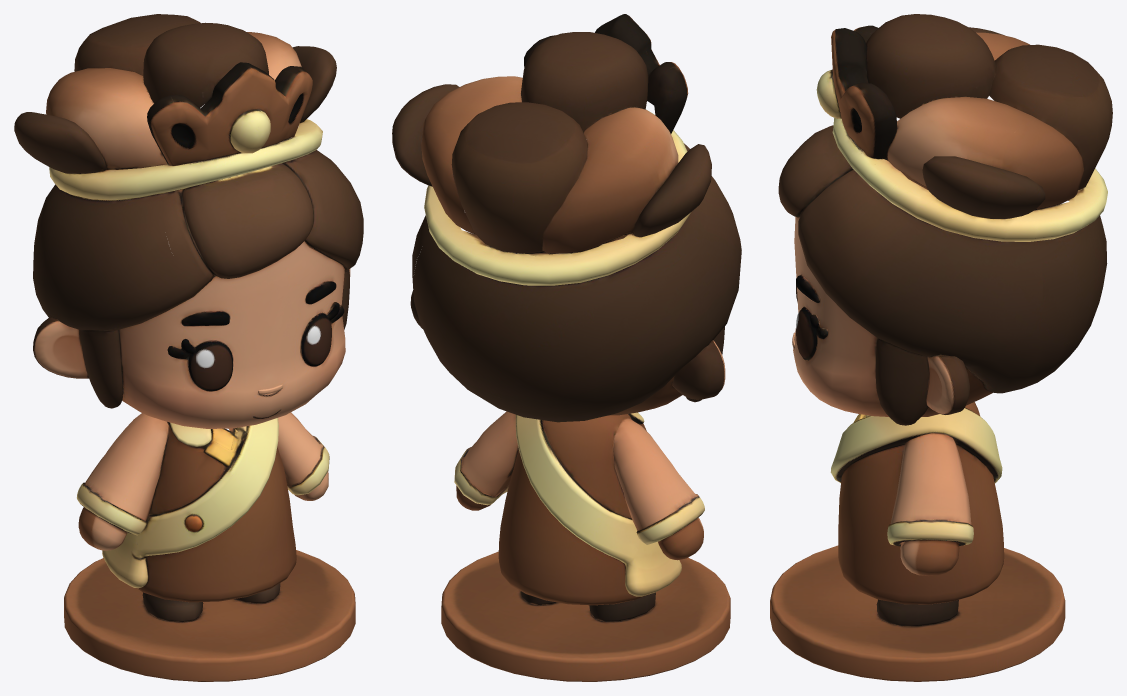
File: laos-queen.glb
3 renders of one model, left to right at view 1: azimuth 30°, elevation 25°; view 2: azimuth 150°, elevation 25°; view 3: azimuth 270°, elevation 25°, orthographic. The views are drawn at different scales.
Parts seen in each view (by area): view 1: c1c8510a_b8d5_4489_9a3a_57828fd24c03; view 2: c1c8510a_b8d5_4489_9a3a_57828fd24c03; view 3: c1c8510a_b8d5_4489_9a3a_57828fd24c03.
Part boxes in pixels (x1,y1,x2,y2): c1c8510a_b8d5_4489_9a3a_57828fd24c03: (14, 14, 363, 681); c1c8510a_b8d5_4489_9a3a_57828fd24c03: (392, 14, 741, 681); c1c8510a_b8d5_4489_9a3a_57828fd24c03: (770, 14, 1112, 681).
Size of the model in its own units: 0.563 by 0.9995 by 0.5239.
Materials: 1 (1 with a texture image).
